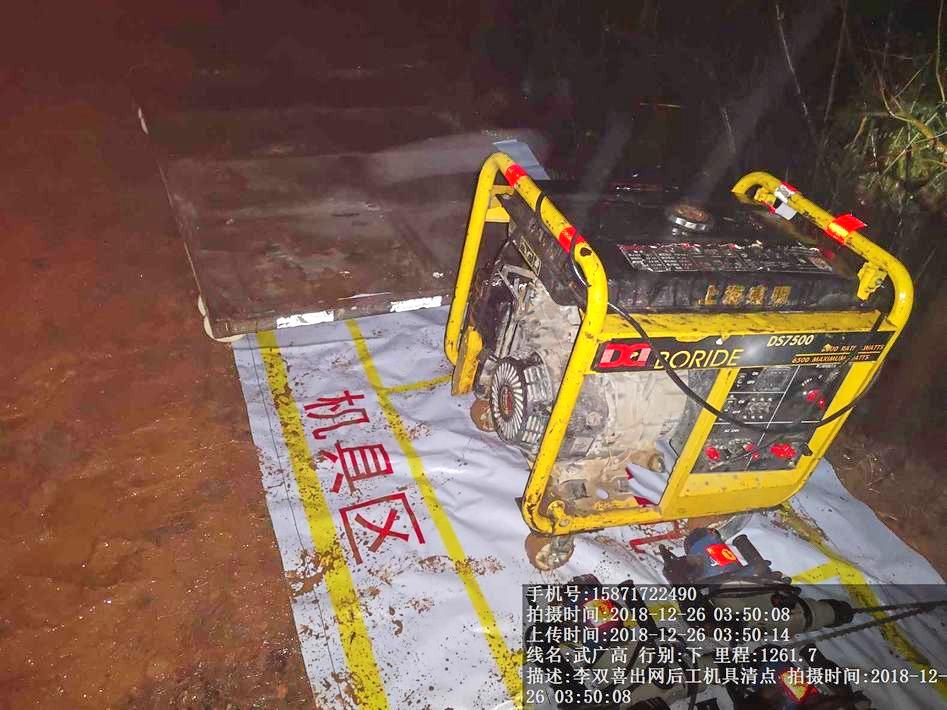DJ: (461, 152, 877, 536)
